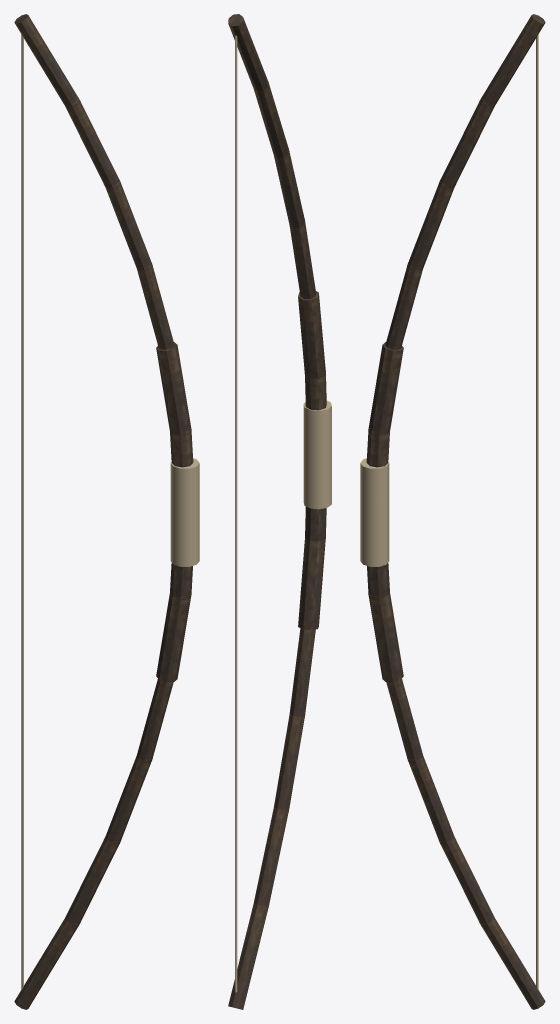
The model's file is bow.glb.
The picture shows the model from 3 angles, left to right: view 1: azimuth 90°, elevation 25°; view 2: azimuth 150°, elevation 25°; view 3: azimuth 270°, elevation 25°; orthographic projection.
Parts seen in each view (by area): view 1: grip, string, limb7, limb4, limb11, limb0, limb10, limb1, limb9, limb2, limb8, limb3 (+2 smaller); view 2: grip, string, limb4, limb7, limb0, limb1, limb2, limb3, limb11, limb9, limb8, limb10 (+2 smaller); view 3: grip, string, limb7, limb4, limb11, limb0, limb10, limb1, limb9, limb2, limb8, limb3 (+2 smaller).
Boxes of the visible parts, bbox=[...] form: grip: bbox=[170, 458, 199, 566]; string: bbox=[21, 34, 23, 989]; limb7: bbox=[156, 342, 191, 436]; limb4: bbox=[156, 593, 191, 682]; limb11: bbox=[14, 14, 80, 107]; limb0: bbox=[14, 918, 80, 1009]; limb10: bbox=[65, 98, 121, 189]; limb1: bbox=[65, 837, 120, 927]; limb9: bbox=[105, 180, 152, 271]; limb2: bbox=[105, 755, 152, 845]; limb8: bbox=[137, 263, 174, 349]; limb3: bbox=[137, 679, 173, 763]; grip: bbox=[303, 400, 331, 509]; string: bbox=[235, 35, 237, 992]; limb4: bbox=[298, 536, 325, 630]; limb7: bbox=[298, 291, 325, 378]; limb0: bbox=[228, 904, 268, 1009]; limb1: bbox=[253, 807, 289, 908]; limb2: bbox=[274, 714, 305, 812]; limb3: bbox=[289, 628, 315, 718]; limb11: bbox=[228, 14, 269, 91]; limb9: bbox=[274, 148, 305, 227]; limb8: bbox=[289, 219, 315, 298]; limb10: bbox=[254, 81, 289, 157]; grip: bbox=[360, 458, 389, 566]; string: bbox=[536, 34, 538, 989]; limb7: bbox=[368, 342, 403, 436]; limb4: bbox=[368, 593, 403, 682]; limb11: bbox=[479, 14, 545, 107]; limb0: bbox=[479, 918, 545, 1009]; limb10: bbox=[438, 98, 494, 189]; limb1: bbox=[439, 837, 494, 927]; limb9: bbox=[407, 180, 454, 271]; limb2: bbox=[407, 755, 454, 845]; limb8: bbox=[385, 263, 422, 349]; limb3: bbox=[386, 679, 422, 763].
Size of the model in its own units: 0.0304 by 1.21 by 0.2053.
Materials: 2 (1 with a texture image).
